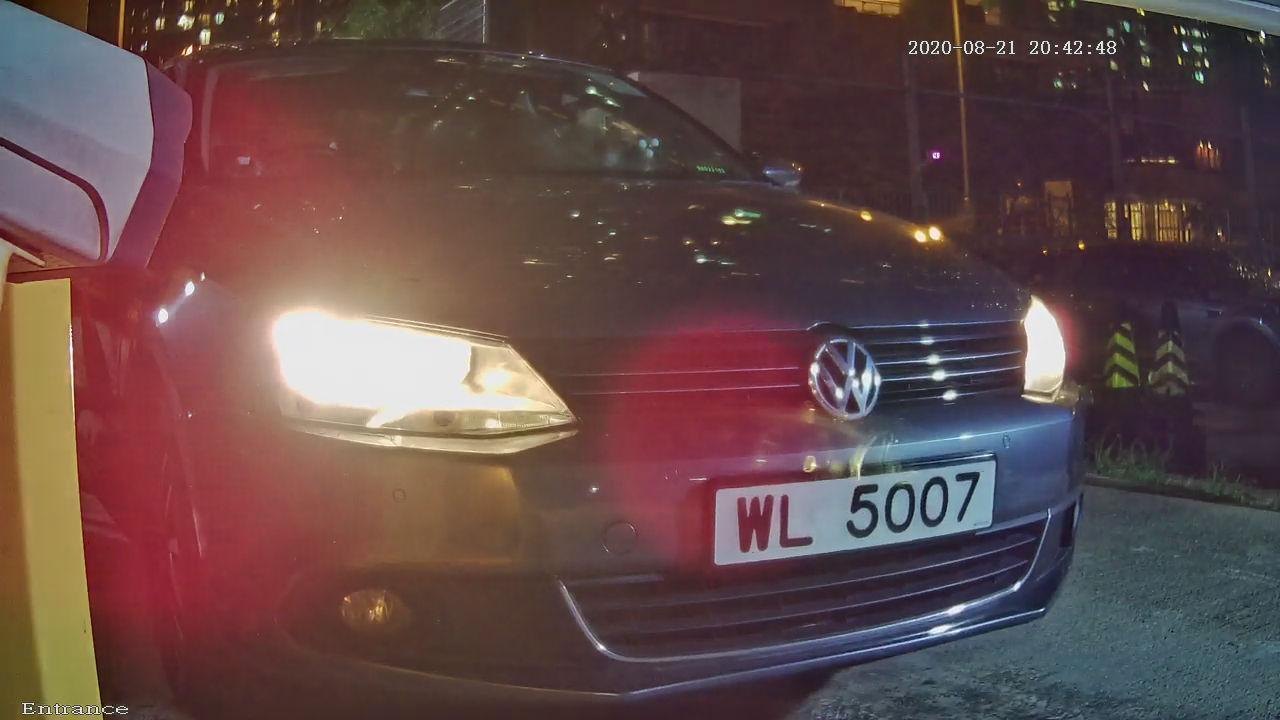License Plate: (682, 441, 1012, 604)
